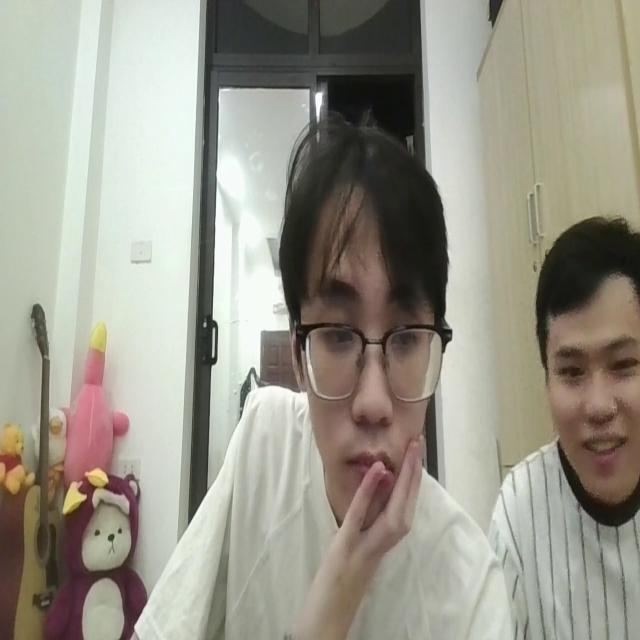extra_person: (489, 214, 640, 640)
student: (124, 114, 513, 640)
